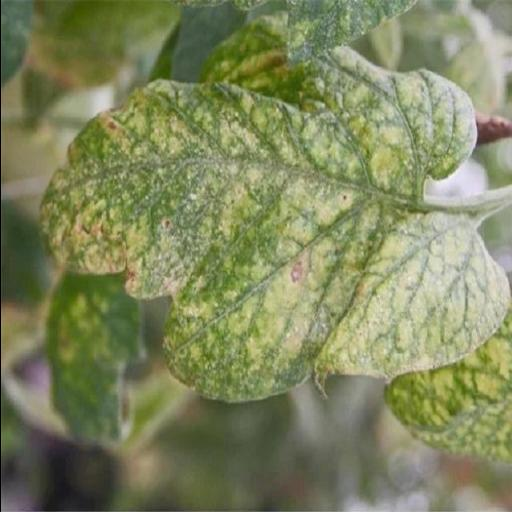disease_tomato: (40, 46, 510, 405)
